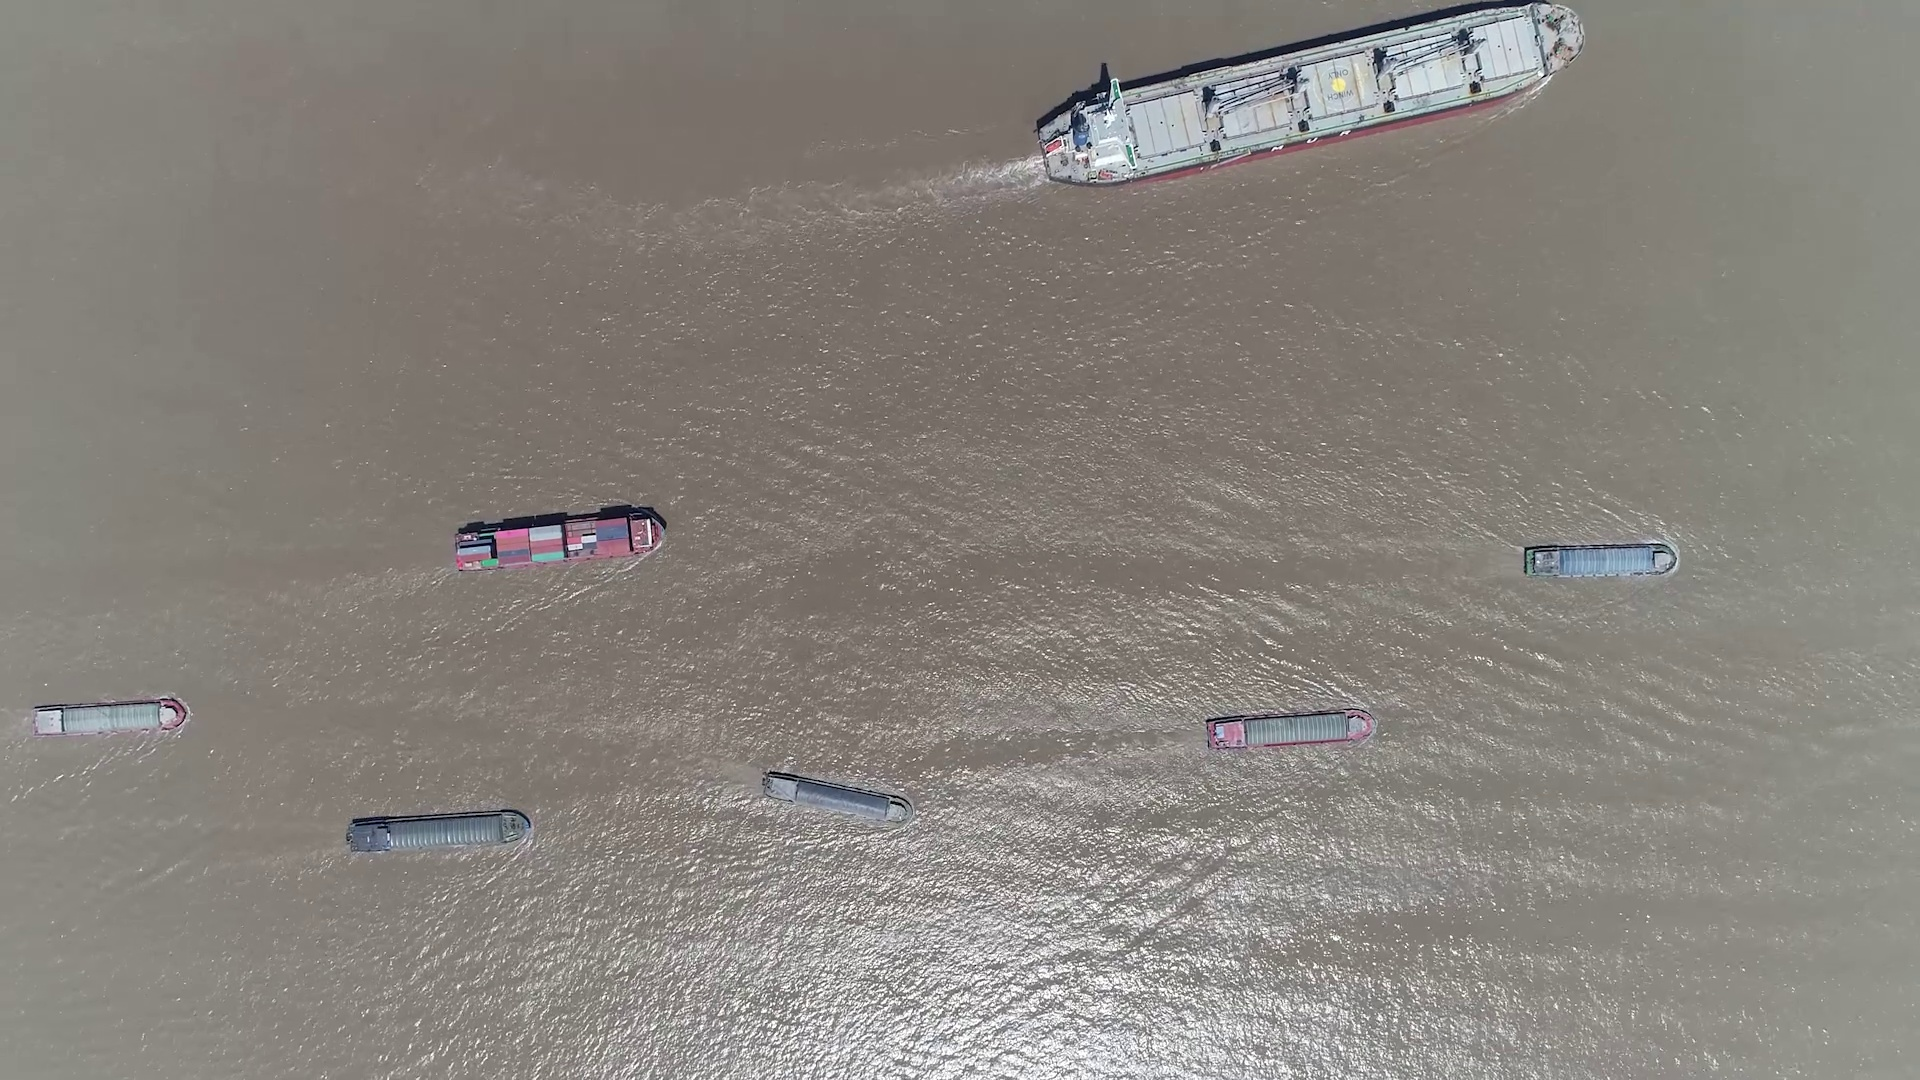ship: (1038, 4, 1580, 185), (454, 509, 665, 574), (345, 808, 531, 855), (760, 771, 913, 825), (1207, 709, 1378, 752), (30, 699, 186, 738), (1522, 542, 1676, 578)
